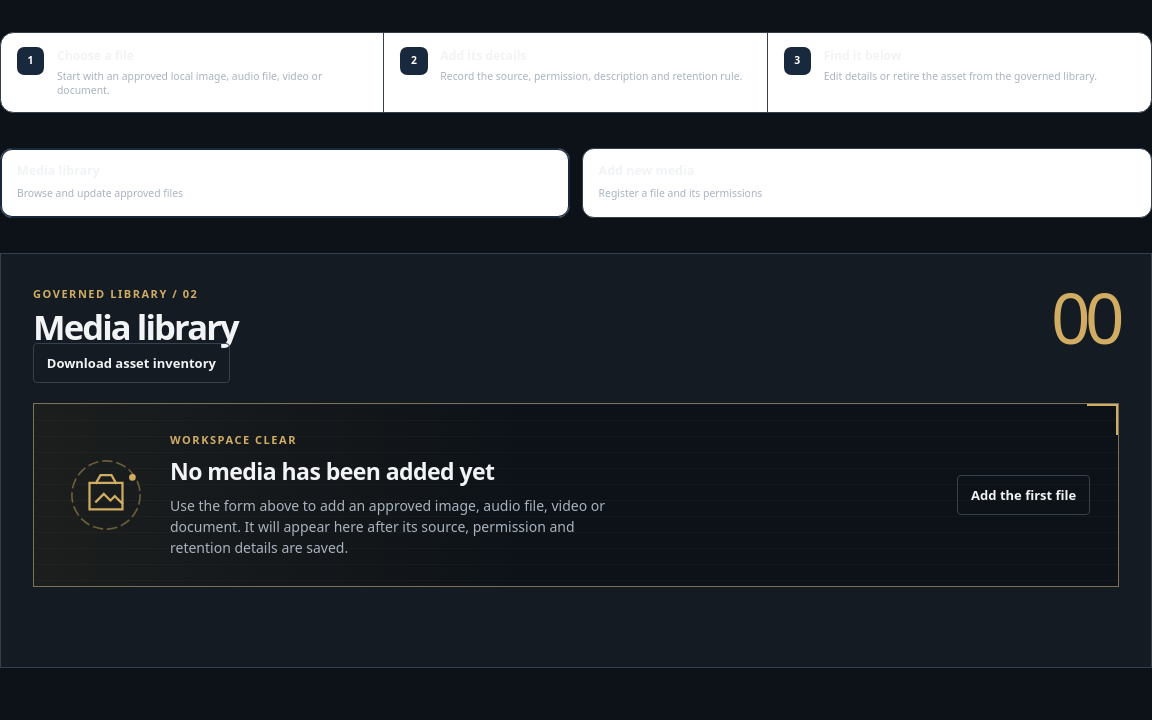
Test: MediaWorkspace › shows a useful empty library state with the next action
Check: the heading "No media has been added yet" is shown, box [170,456,494,488]
Click the button "Add the first file": [1024, 495] box [957,475,1090,515]
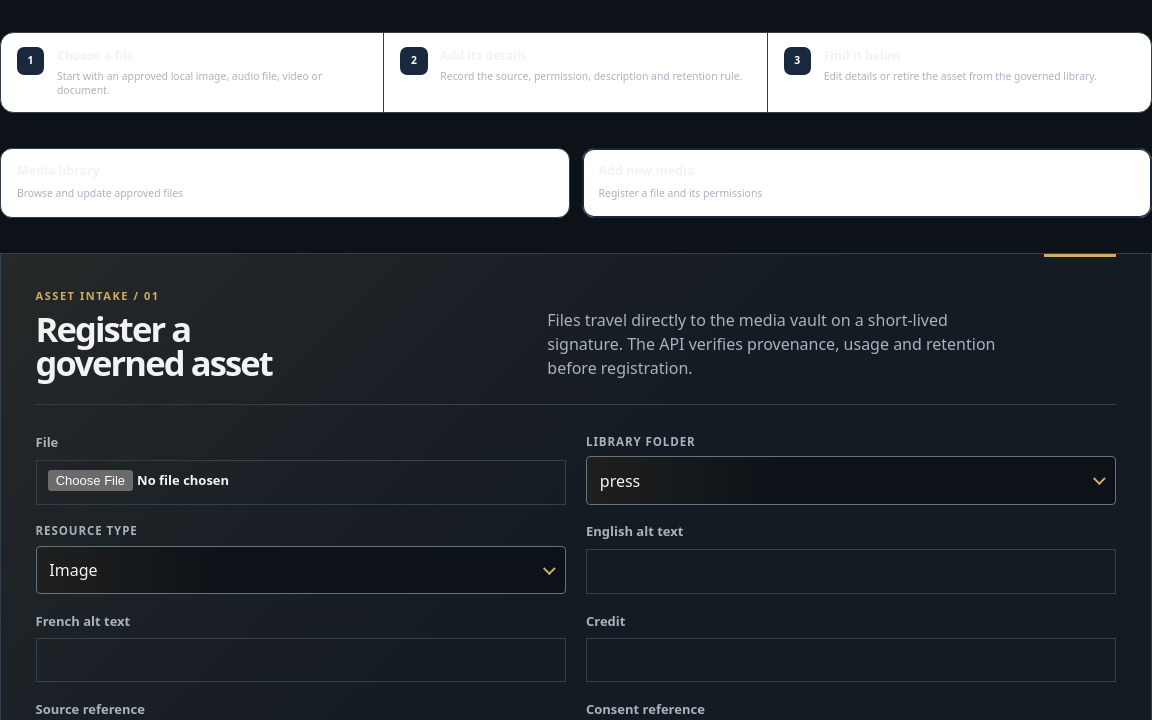
Check: the heading "Register a governed asset" is shown, box [36,305,272,386]
